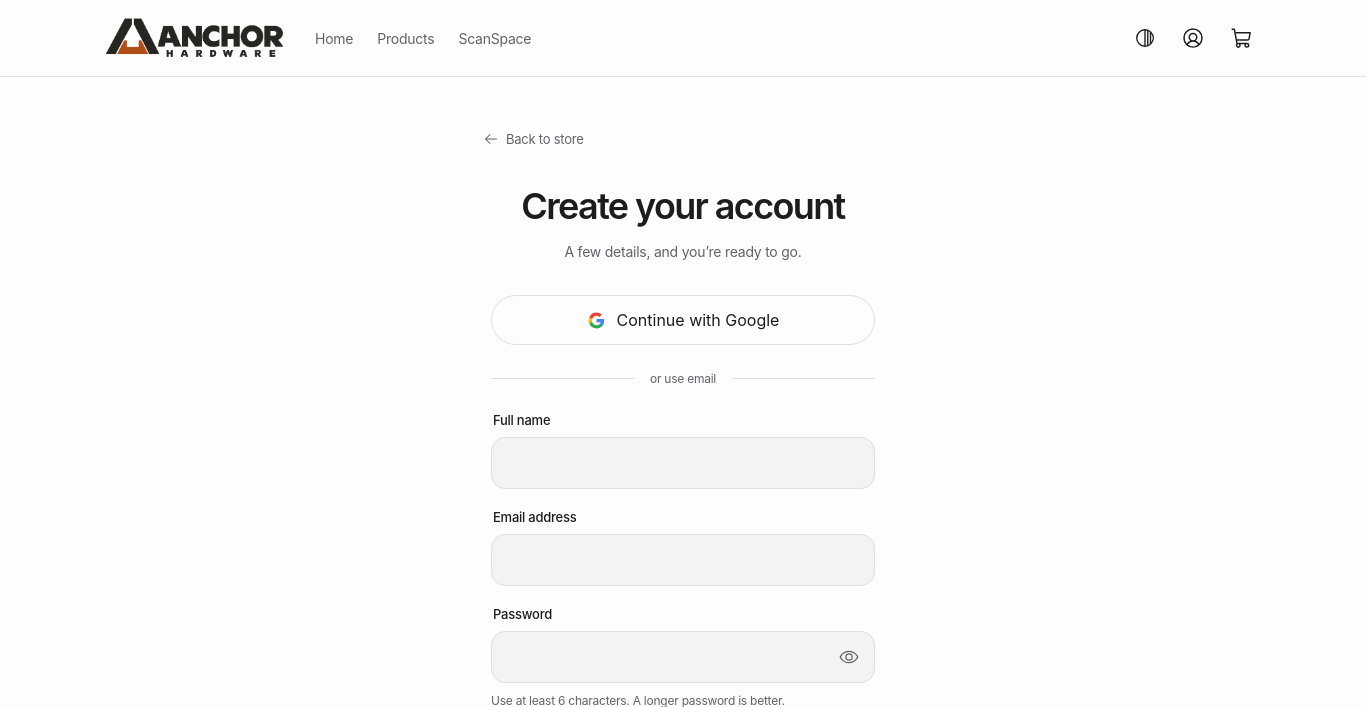
Test: registration checks password confirmation before creating an account
In the field labelled "Full name": (683, 463) [491,437,875,489], type "Alex Customer"
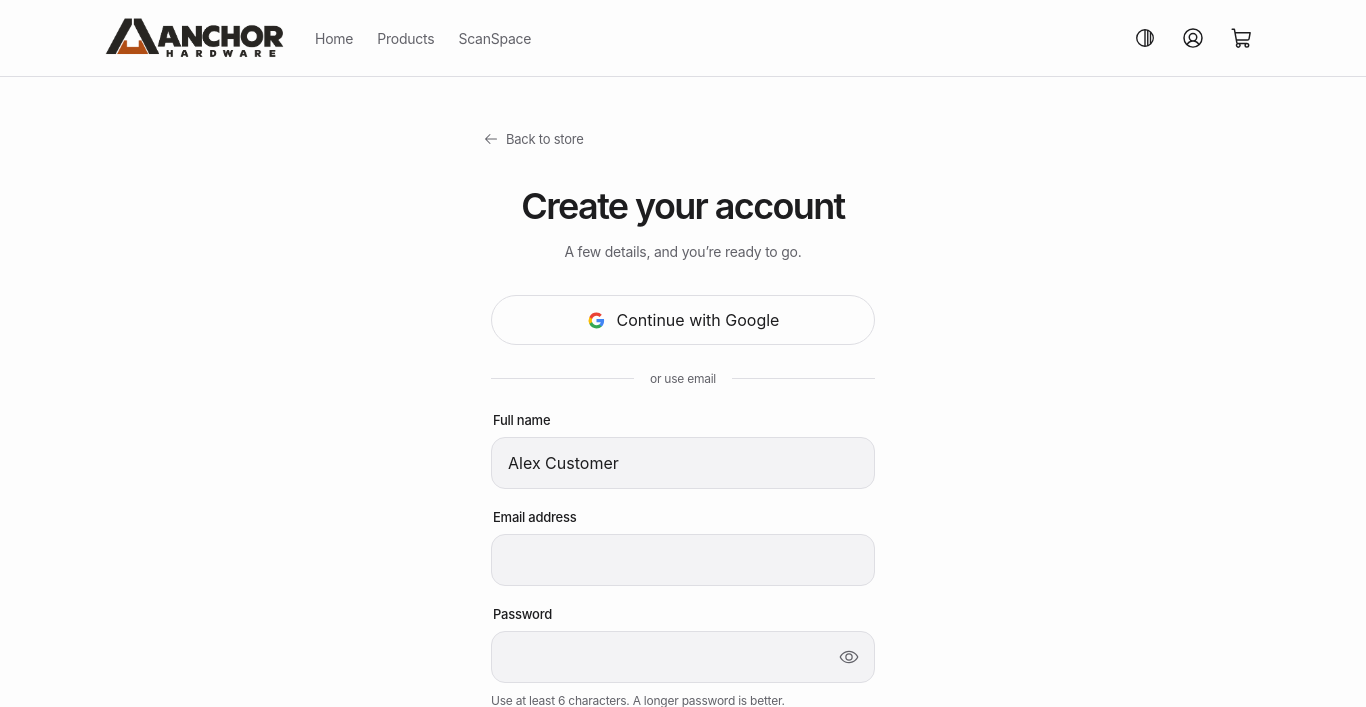
In the field labelled "Email address": (683, 560) [491,534,875,586], type "alex@example.com"
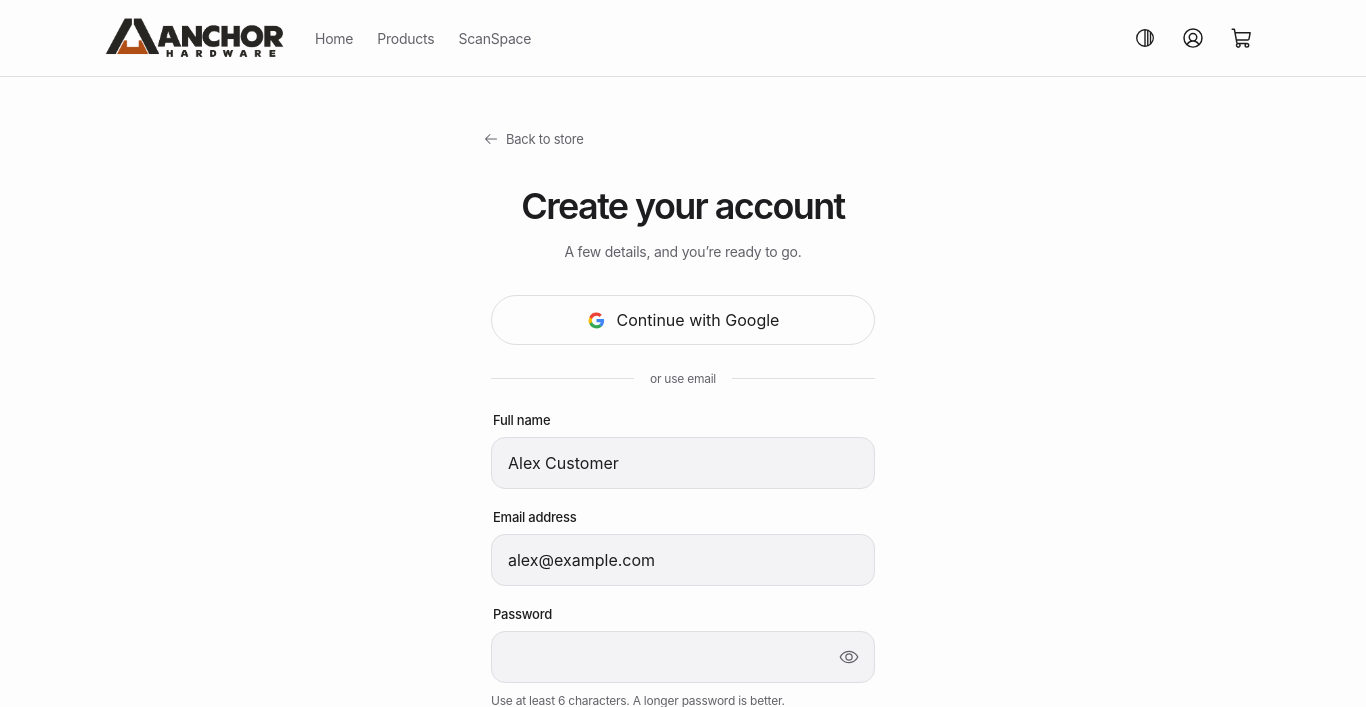
In the password field labelled "Password": (683, 657) [491,631,875,683], type "password-one"
(page scrolled)
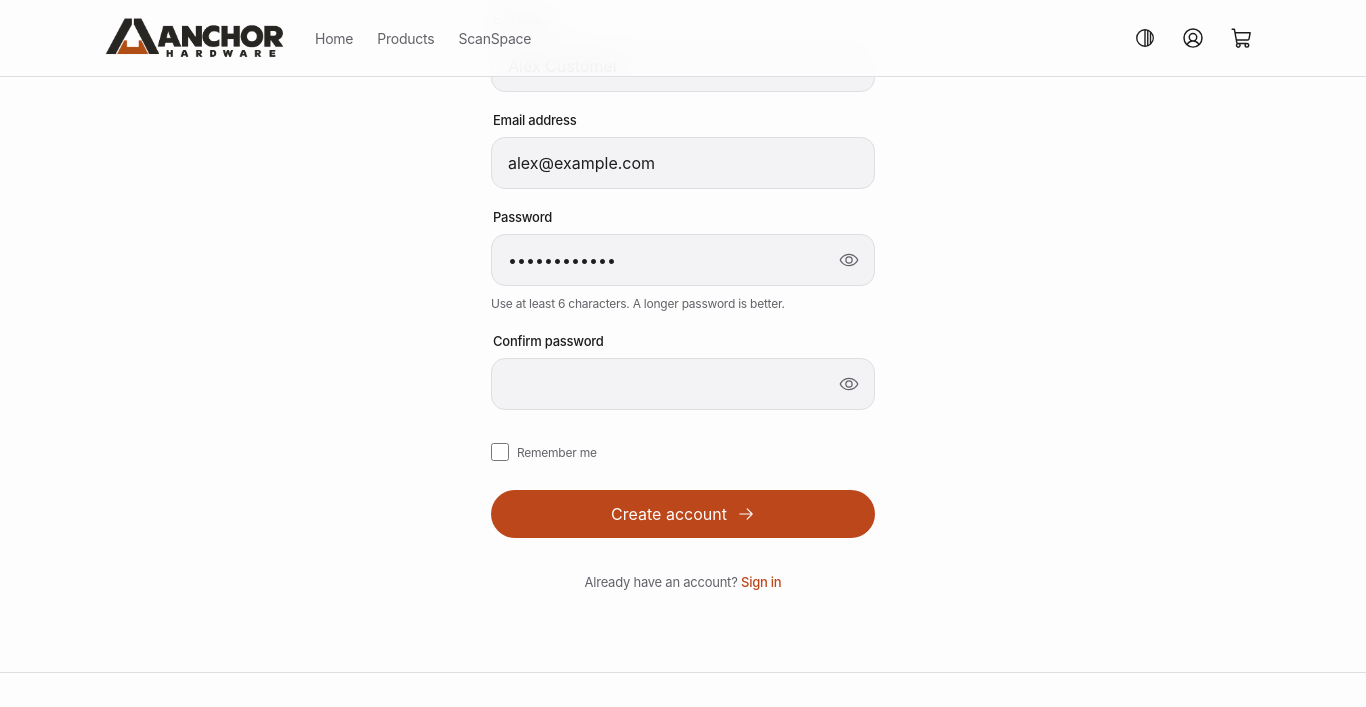
In the password field labelled "Confirm password": (683, 384) [491,358,875,410], type "password-two"
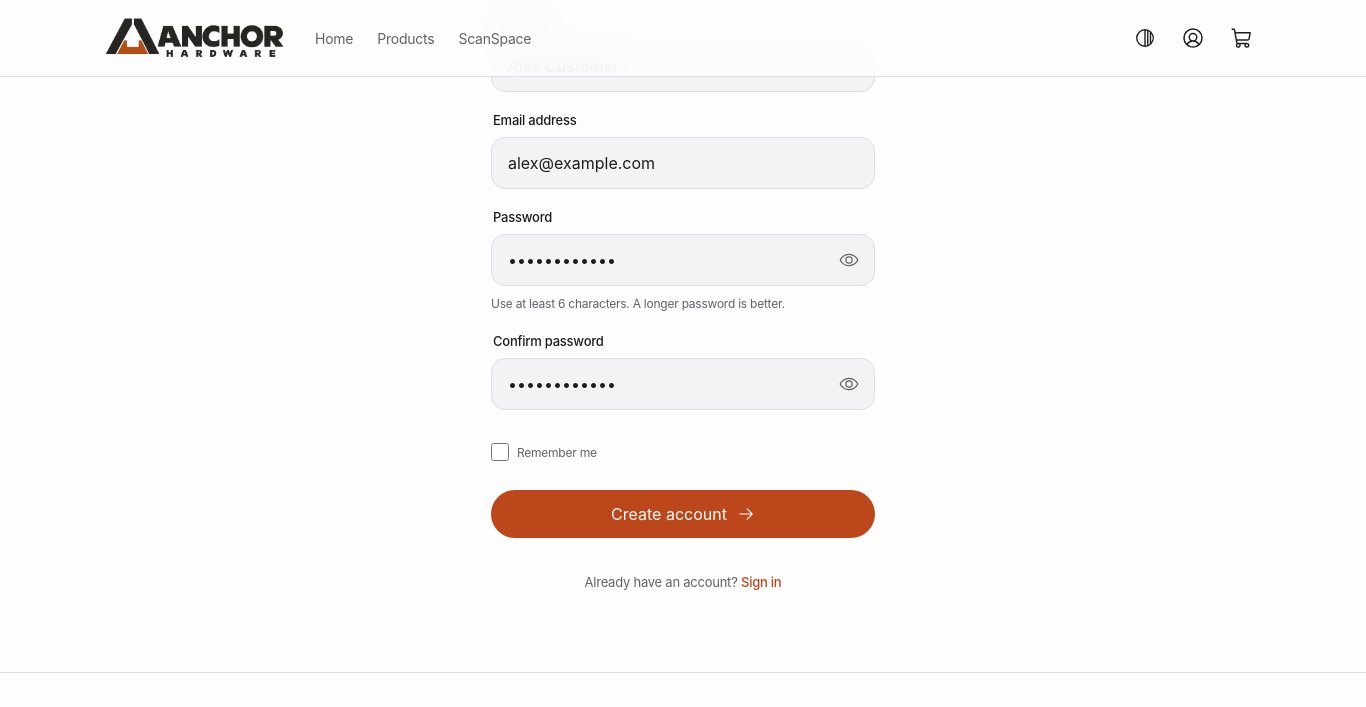
Click the button "Create account": (683, 514) [491,490,875,538]
(page scrolled)
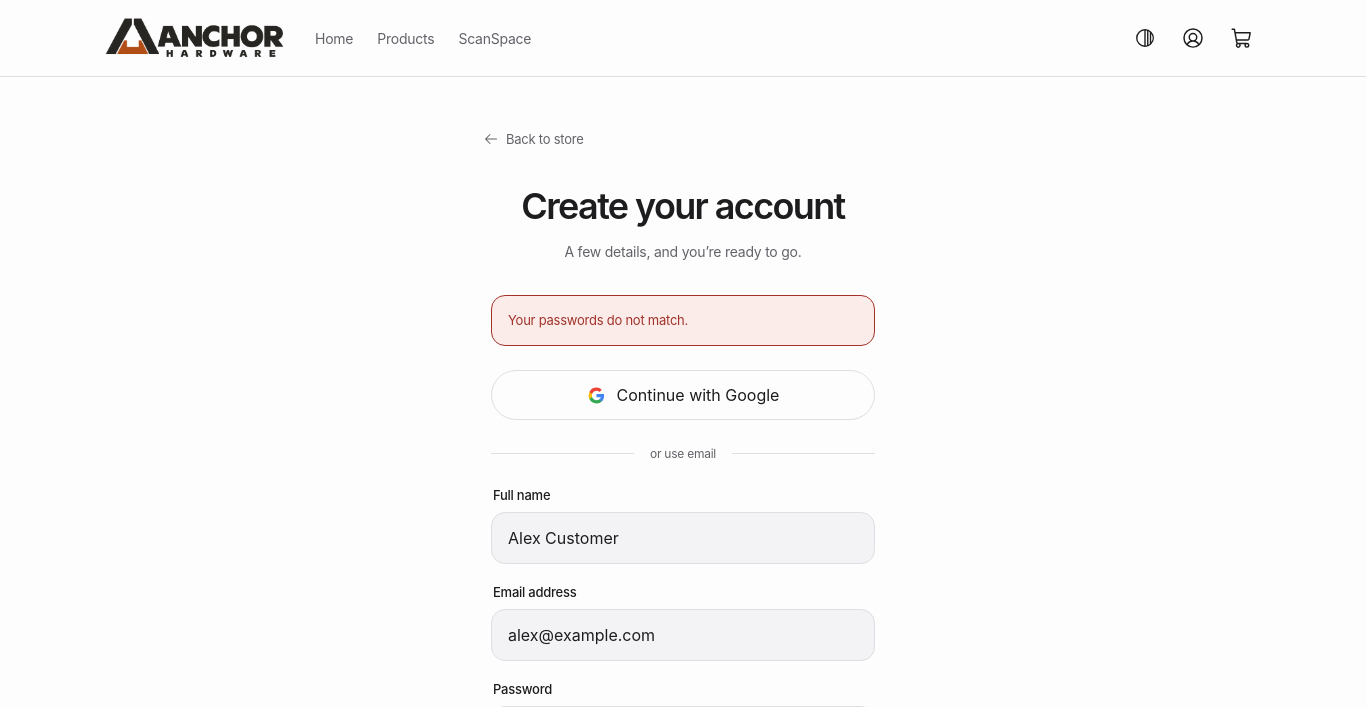
Expected: the message shows "Your passwords do not match", [508,312,688,328]
